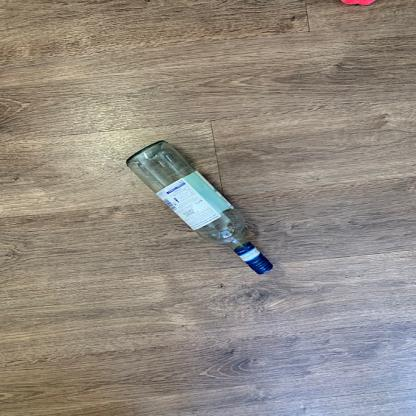trash: (124, 140, 276, 277)
